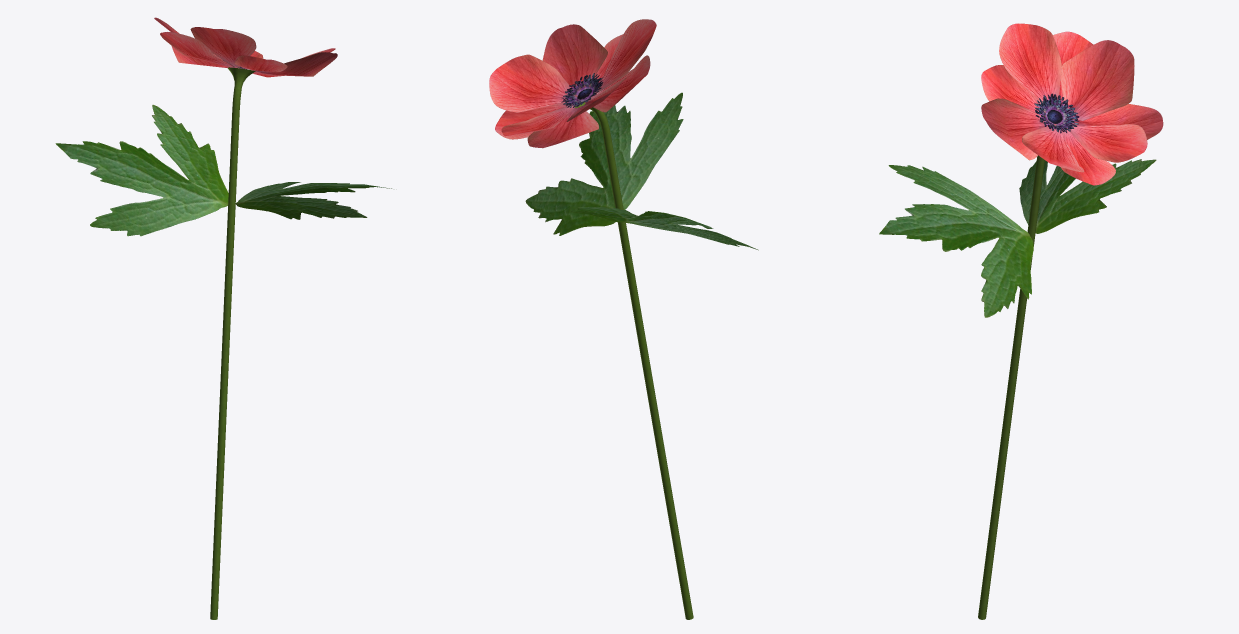
The picture shows the model from 3 angles, left to right: view 1: azimuth 30°, elevation 25°; view 2: azimuth 150°, elevation 25°; view 3: azimuth 270°, elevation 25°; orthographic projection. The views are drawn at different scales.
Parts seen in each view (by area): view 1: Cylinder.002; view 2: Cylinder.002; view 3: Cylinder.002.
Boxes of the visible parts, <box> form: Cylinder.002: <box>55,17,391,619</box>; Cylinder.002: <box>489,19,758,619</box>; Cylinder.002: <box>879,23,1163,619</box>.
Size of the model in its own units: 1054 by 1652 by 995.
1 material, 1 textured.
